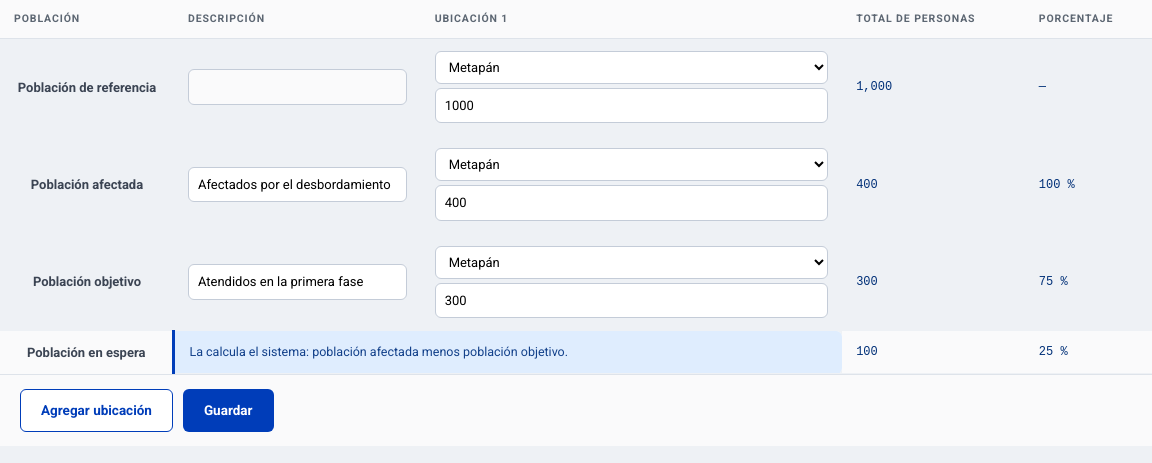
PoblacionTab · CU-PRE-07 › agrega una columna de ubicación a las tres filas
Expected: the dropdown named "Ubicación 1 de Población afectada" is shown, [435,148,828,181]
Click the button "Agregar ubicación". click: (96, 410)
box: [20,389,173,432]
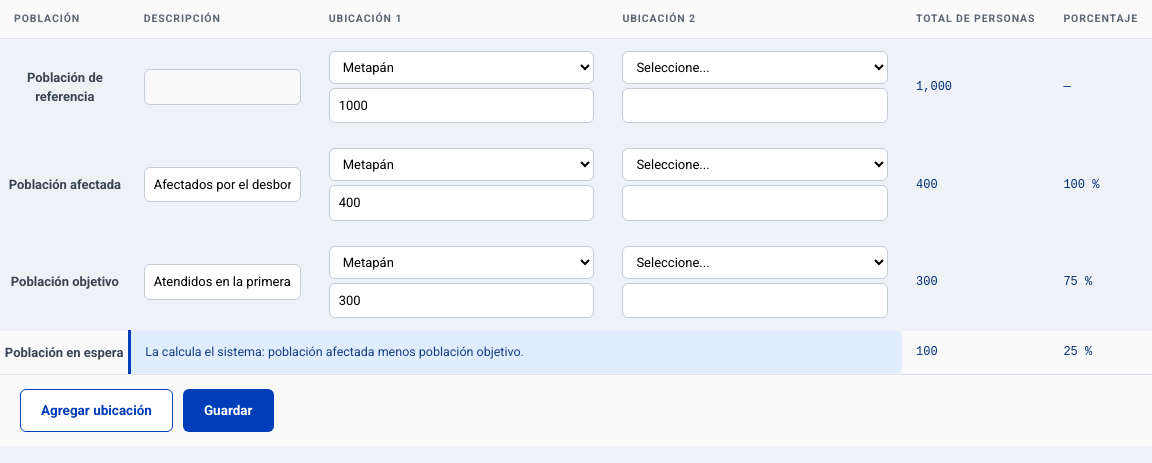
Result: the dropdown named "Ubicación 2 de Población afectada" is shown at [622,148,888,181]
Result: the dropdown named "Ubicación 2 de Población de referencia" is shown at [622,51,888,84]
Result: the dropdown named "Ubicación 2 de Población objetivo" is shown at [622,246,888,279]
